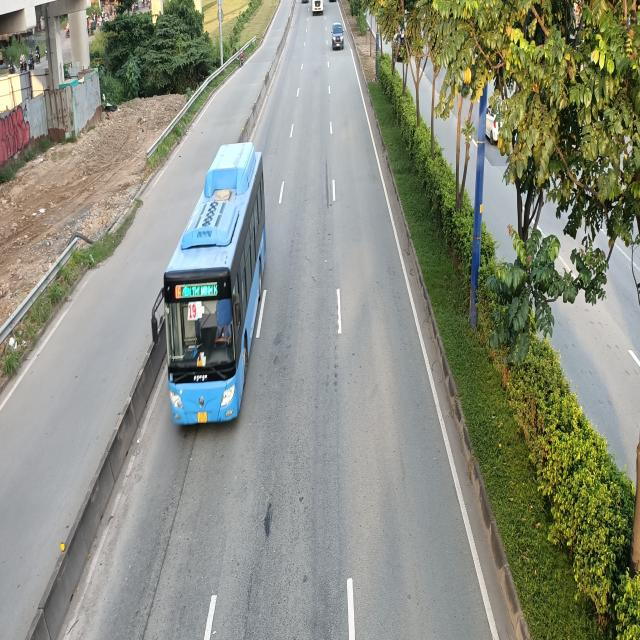car: (332, 20, 345, 48)
coach: (148, 142, 264, 427)
